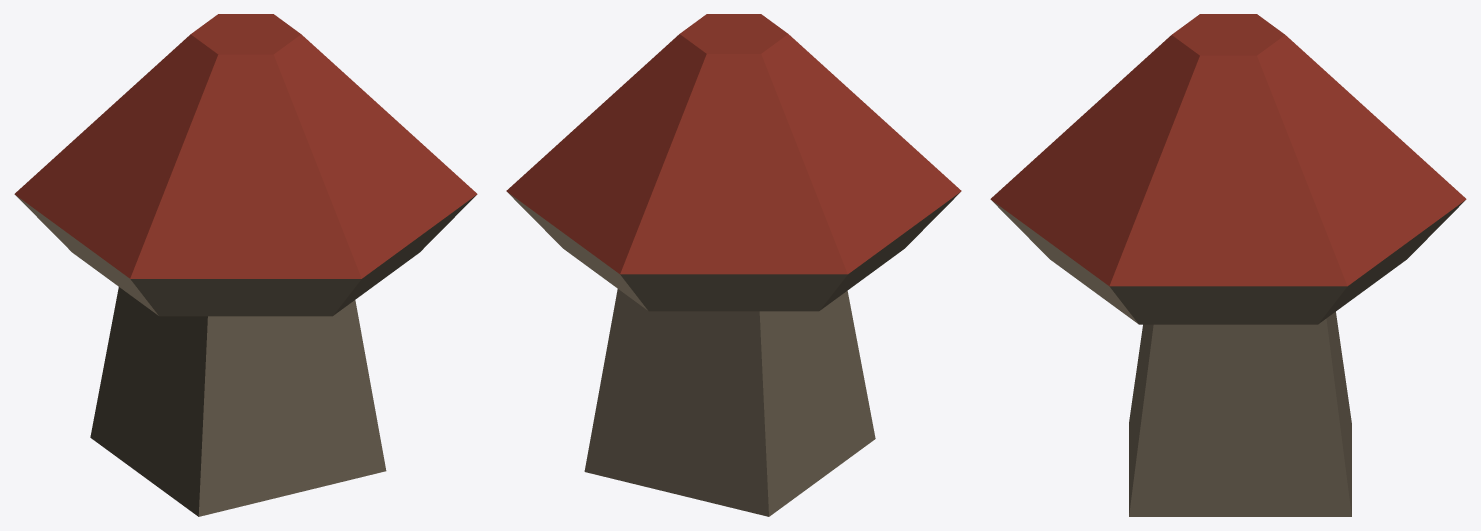
Rendered from mushroom_red.glb.
3 views of the same model, side by side, from view 1: azimuth 30°, elevation 25°; view 2: azimuth 150°, elevation 25°; view 3: azimuth 270°, elevation 25° (orthographic). The views are drawn at different scales.
Parts seen in each view (by area): view 1: mushroom_red; view 2: mushroom_red; view 3: mushroom_red.
Part boxes in pixels (<box>): mushroom_red: <box>14,14,477,516</box>; mushroom_red: <box>506,14,961,516</box>; mushroom_red: <box>990,14,1466,516</box>.
Bounding box in the file's own units: 0.174 × 0.2028 × 0.2009.
